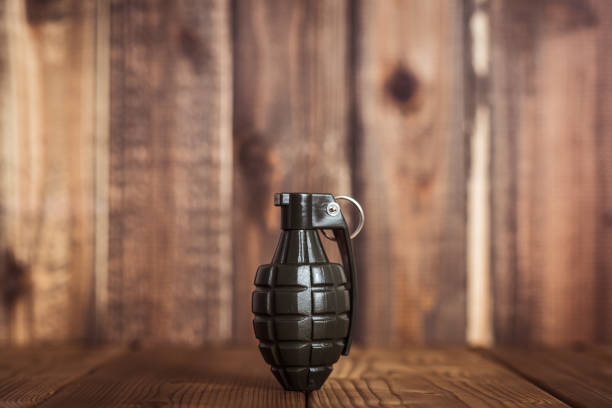e1: (251, 186, 367, 391)
